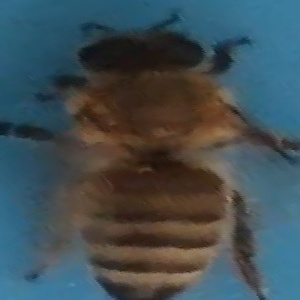bee: (13, 10, 290, 300)
